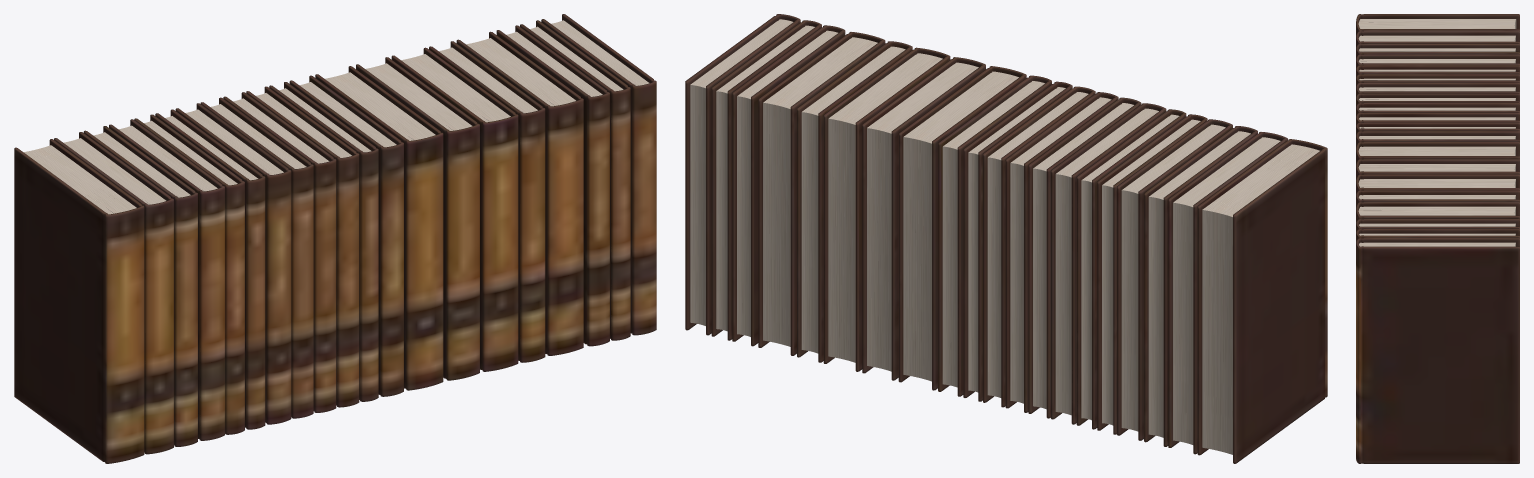
File: book_encyclopedia_set_01.glb
The picture shows the model from 3 angles, left to right: view 1: azimuth 30°, elevation 25°; view 2: azimuth 150°, elevation 25°; view 3: azimuth 270°, elevation 25°; orthographic projection. The views are drawn at different scales.
Visible parts, largest first — view 1: book_encyclopedia_set_01_book01; view 2: book_encyclopedia_set_01_book01; view 3: book_encyclopedia_set_01_book01.
Part boxes in pixels (bbox=[...]): book_encyclopedia_set_01_book01: bbox=[14, 14, 656, 463]; book_encyclopedia_set_01_book01: bbox=[685, 14, 1327, 463]; book_encyclopedia_set_01_book01: bbox=[1356, 14, 1519, 463].
Bounding box in the file's own units: 0.5513 × 0.2374 × 0.1631.
2 materials, 2 textured.
